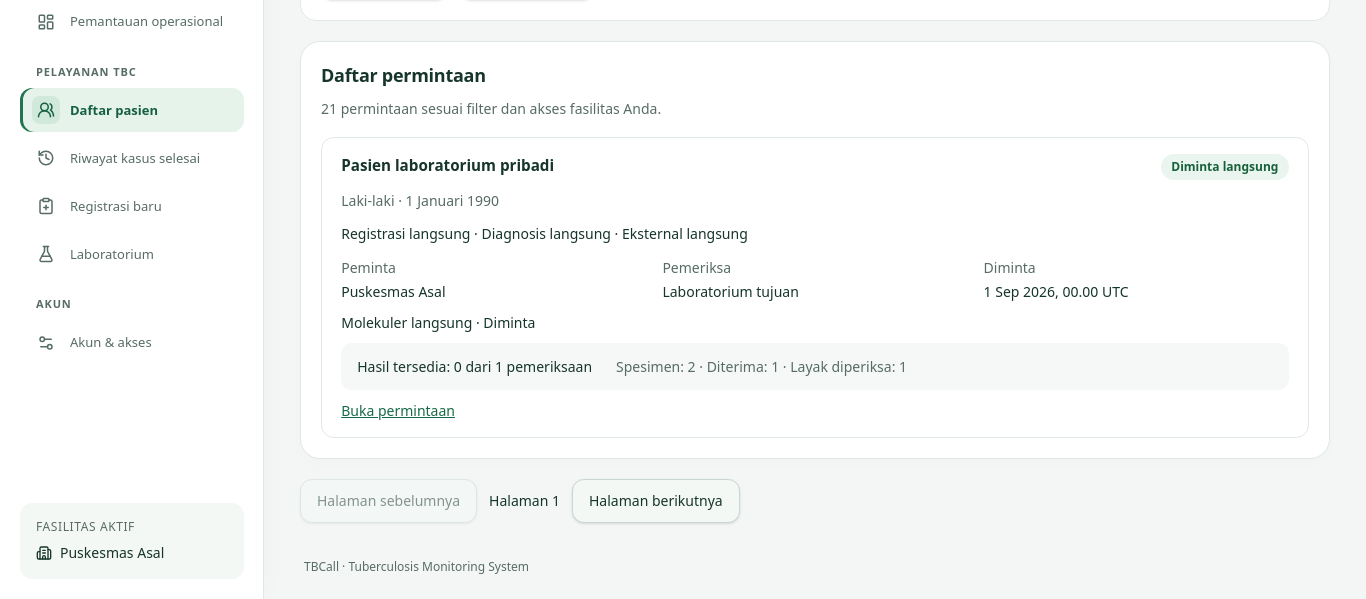
a later empty page keeps a route back when totals shrink
(page scrolled)
expect the heading "Pasien laboratorium pribadi" is shown: met, box [341,154,554,176]
Click the button "Halaman berikutnya" at (656,501), box [572,479,740,523]
(page scrolled)
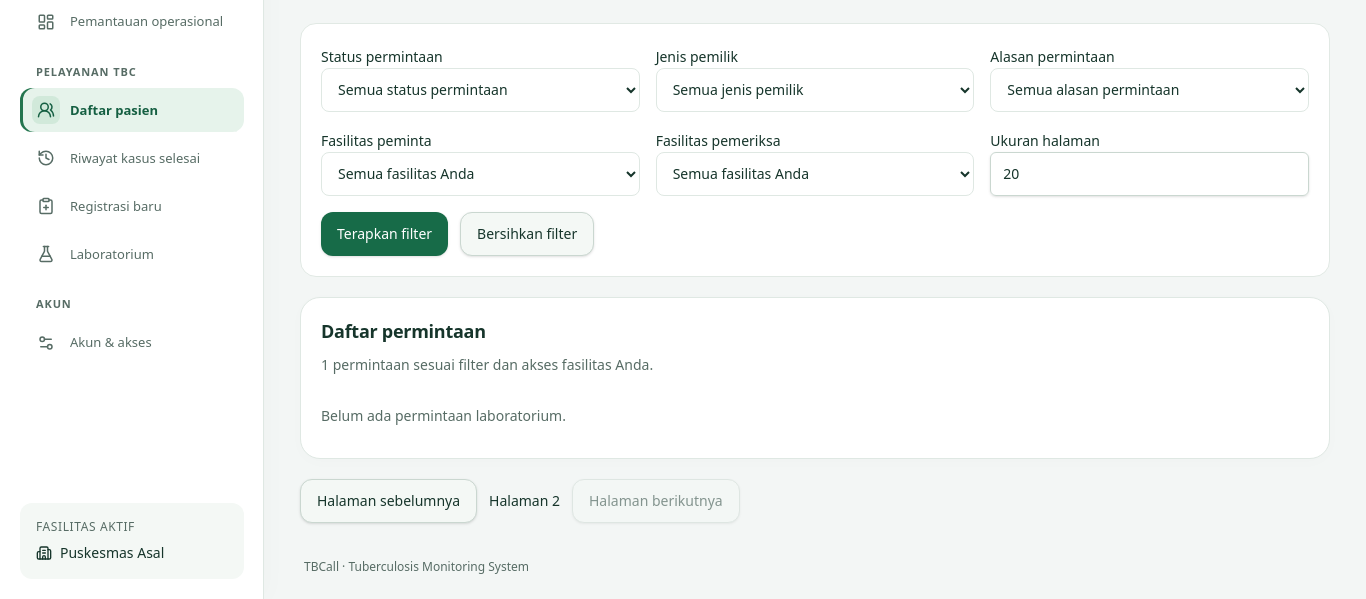
expect the text "Belum ada permintaan laboratorium." is shown: met, box [321,406,566,424]
expect the button "Halaman sebelumnya" is enabled: met, box [300,478,477,522]
